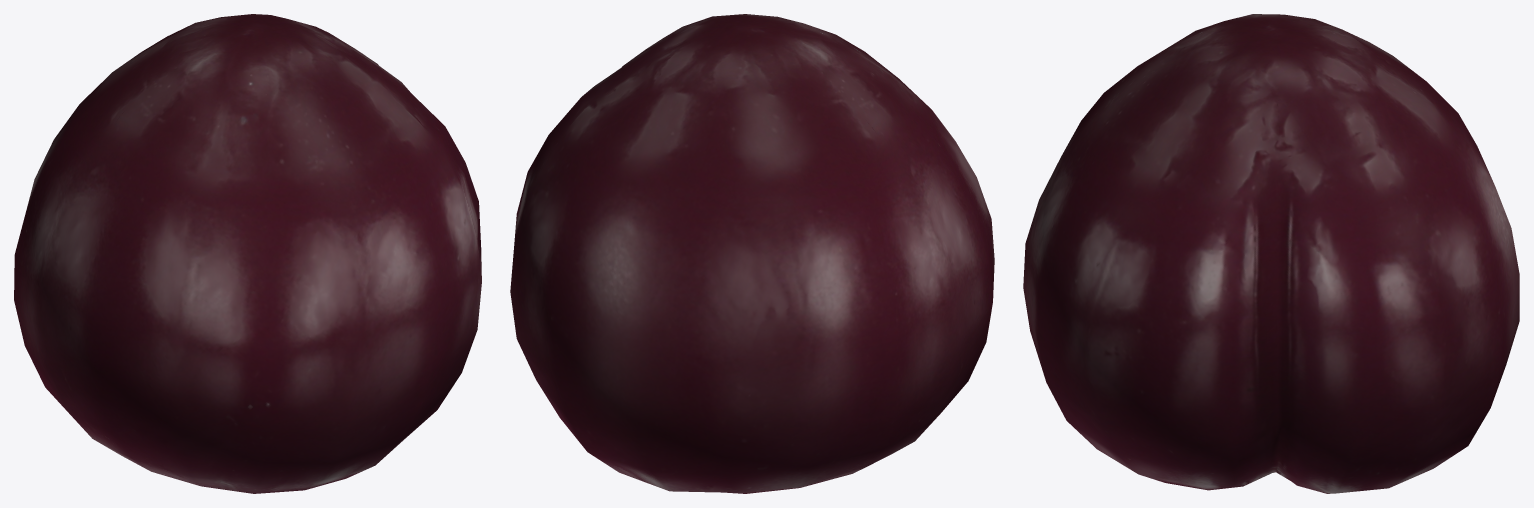
File: 018_plum.dae
3 views of the same model, side by side, from view 1: azimuth 30°, elevation 25°; view 2: azimuth 150°, elevation 25°; view 3: azimuth 270°, elevation 25° (orthographic). The views are drawn at different scales.
Visible parts, largest first — view 1: 018_plum; view 2: 018_plum; view 3: 018_plum.
Part boxes in pixels (x1,y1,x2,y2): 018_plum: (14,14,481,493); 018_plum: (510,14,994,493); 018_plum: (1023,14,1519,493).
Size of the model in its own units: 0.0531 by 0.0556 by 0.0532.
1 material, 1 textured.
